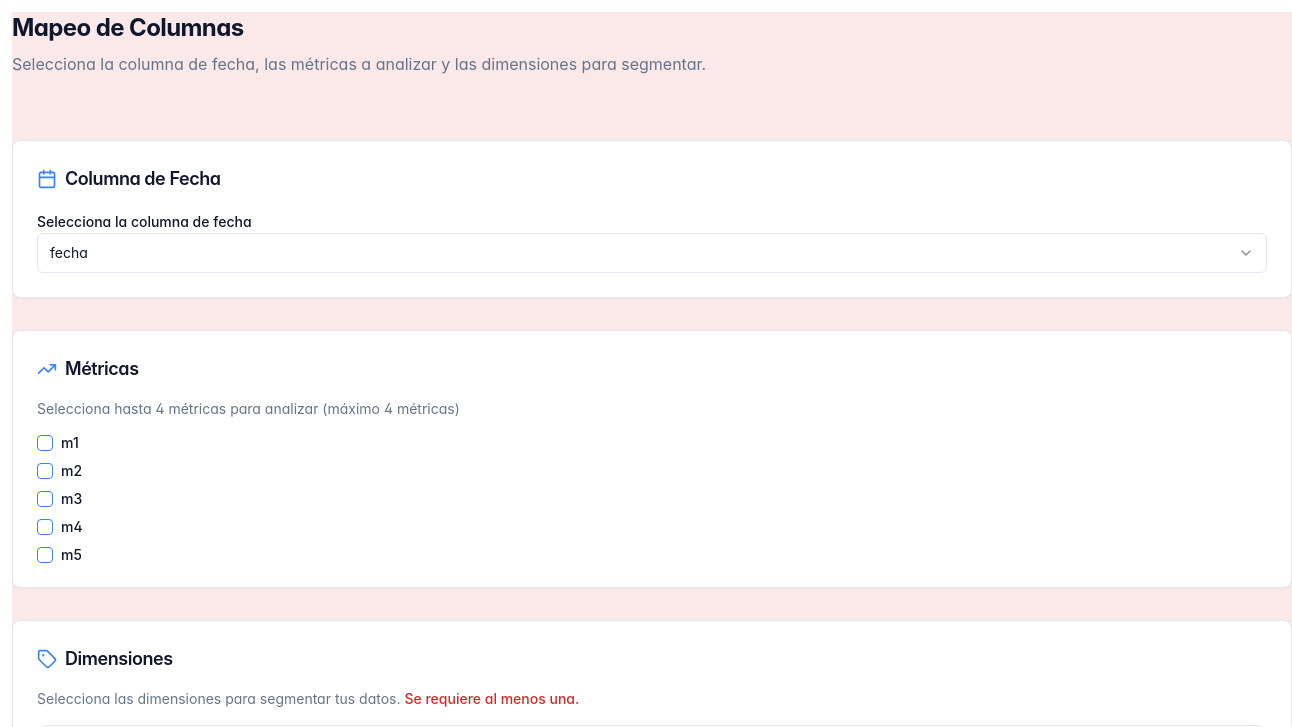
Test: [TDD] ColumnMappingStep - Simplified Auto-Mapping UI › Selección de métricas › [RED] should disable remaining checkboxes after 4 metrics selected
The image size is (1292, 727).
Note: Seleccionar 4 métricas
Click the checkbox named "m1" at (45, 443), box [37,435,53,451]
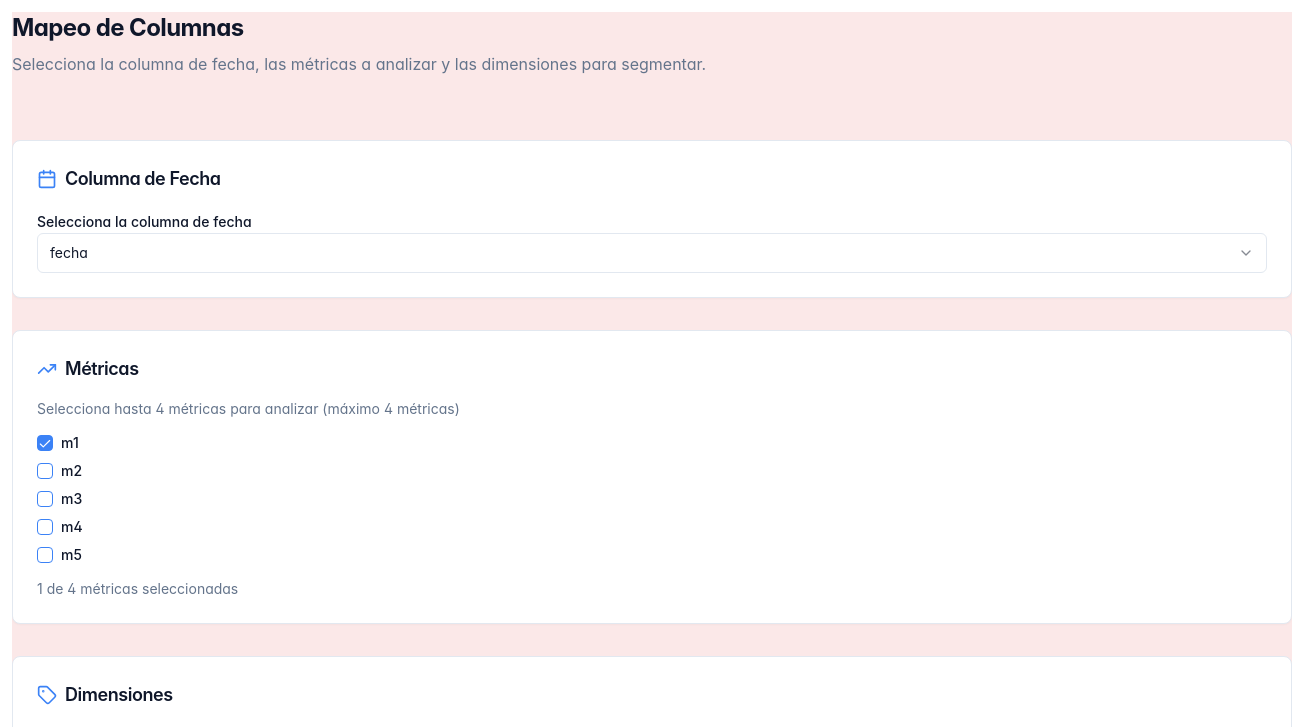
Click the checkbox named "m2" at (45, 471), box [37,463,53,479]
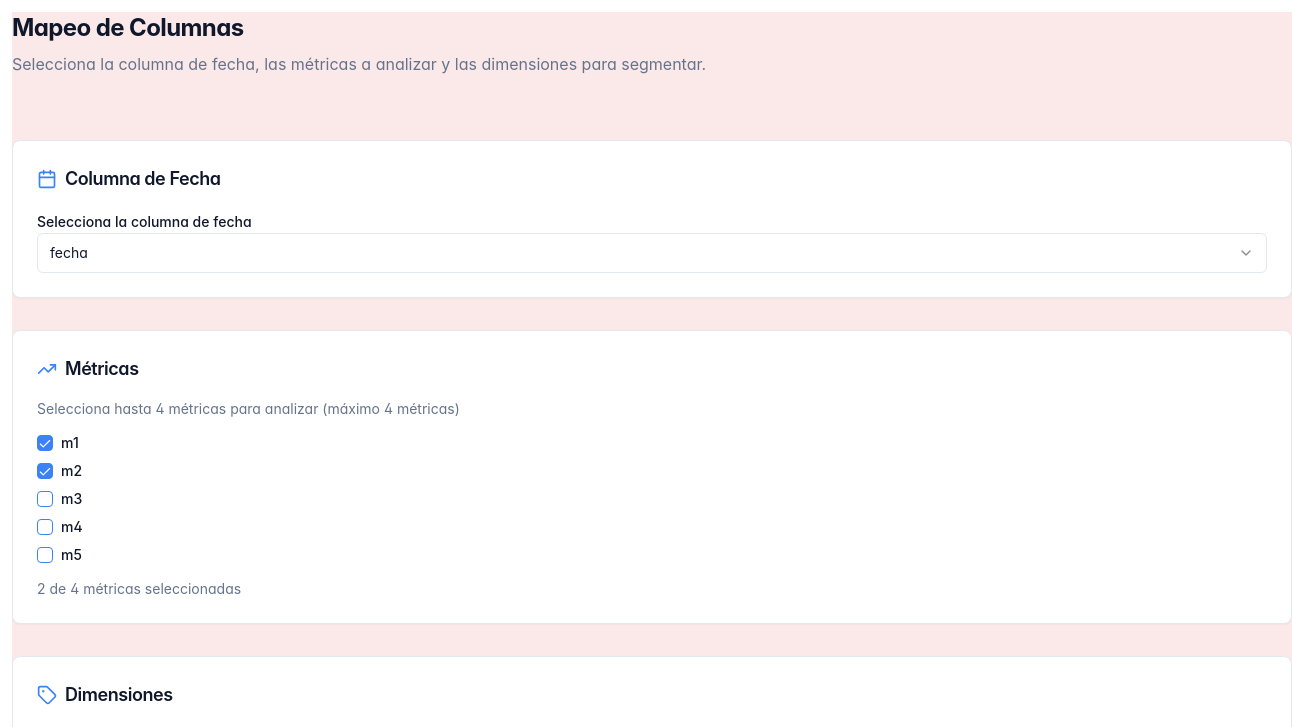
Click the checkbox named "m3" at (45, 499), box [37,491,53,507]
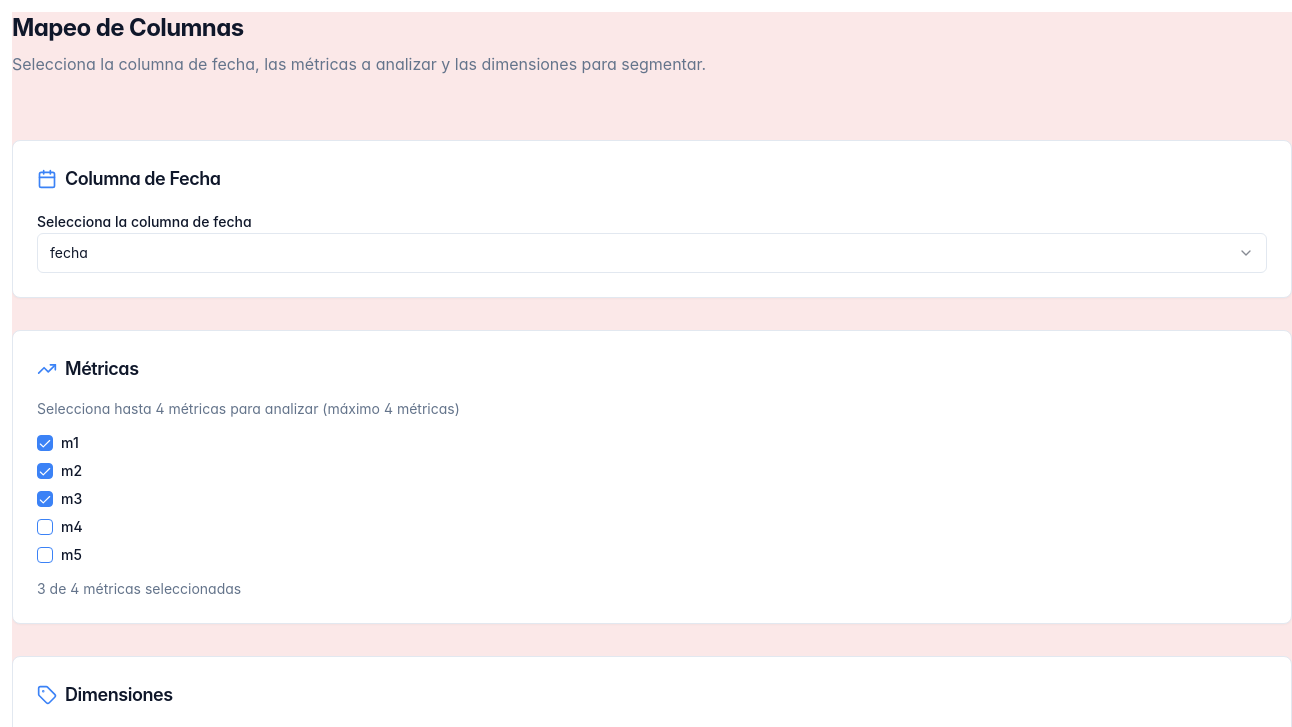
Click the checkbox named "m4" at (45, 527), box [37,519,53,535]
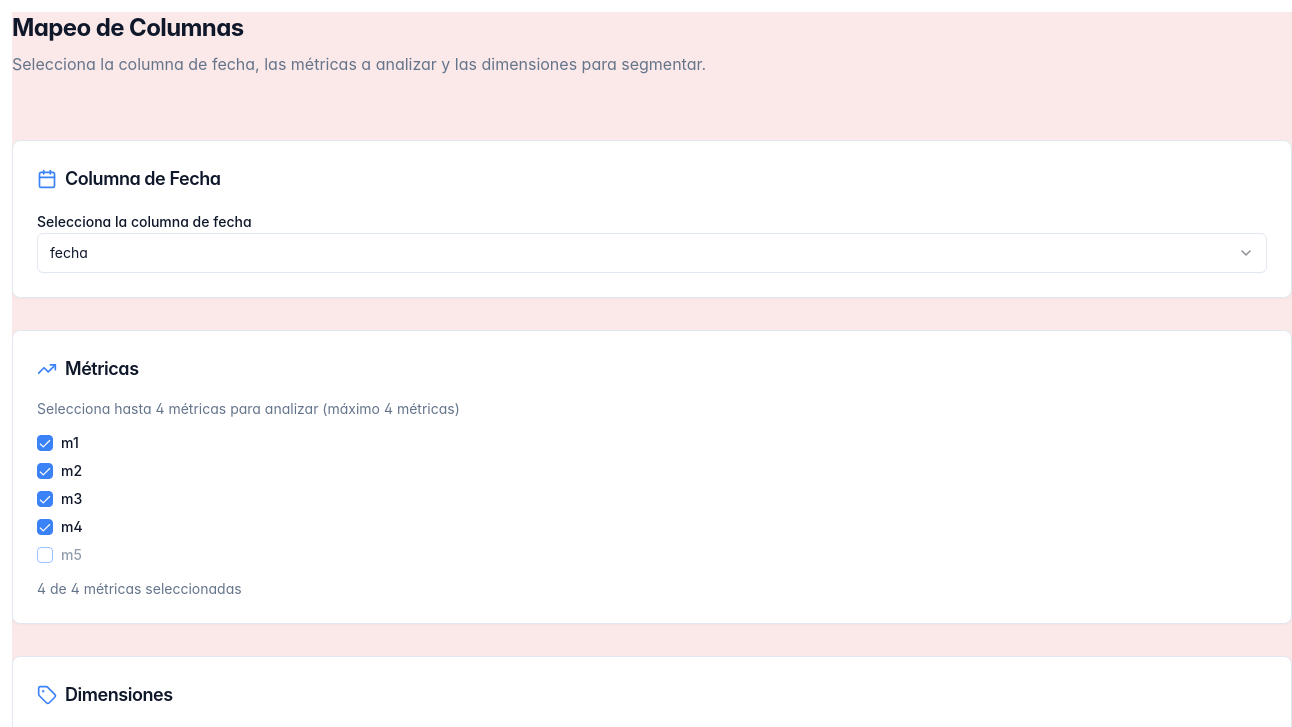
Expected: the checkbox named "m5" is disabled, [37,547,53,563]
